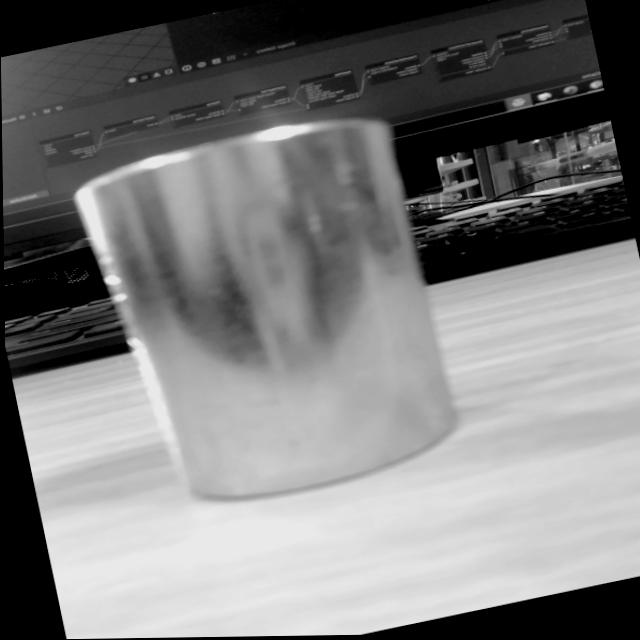Co_Nho: (70, 102, 463, 524)
